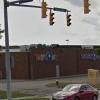Traffic light: (36, 1, 86, 34)
